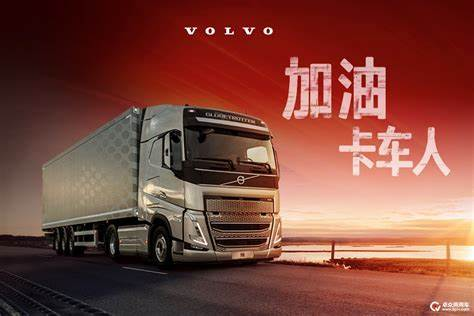卡车: (29, 98, 288, 281)
